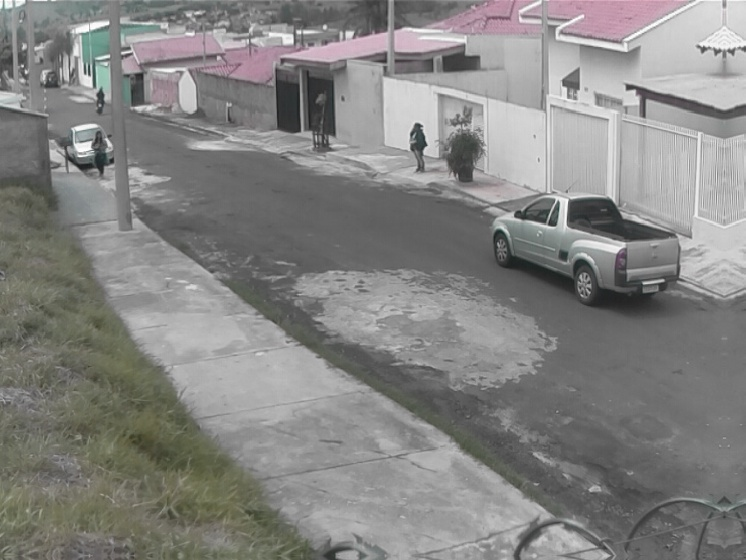person: (407, 121, 430, 175), (91, 130, 112, 181)
